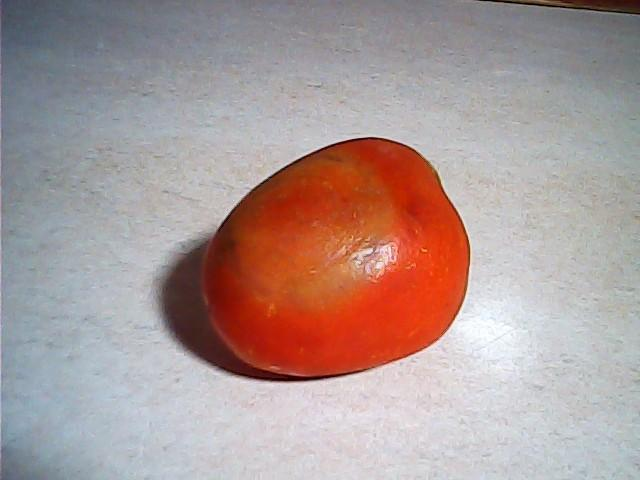maduro: (196, 137, 471, 382)
